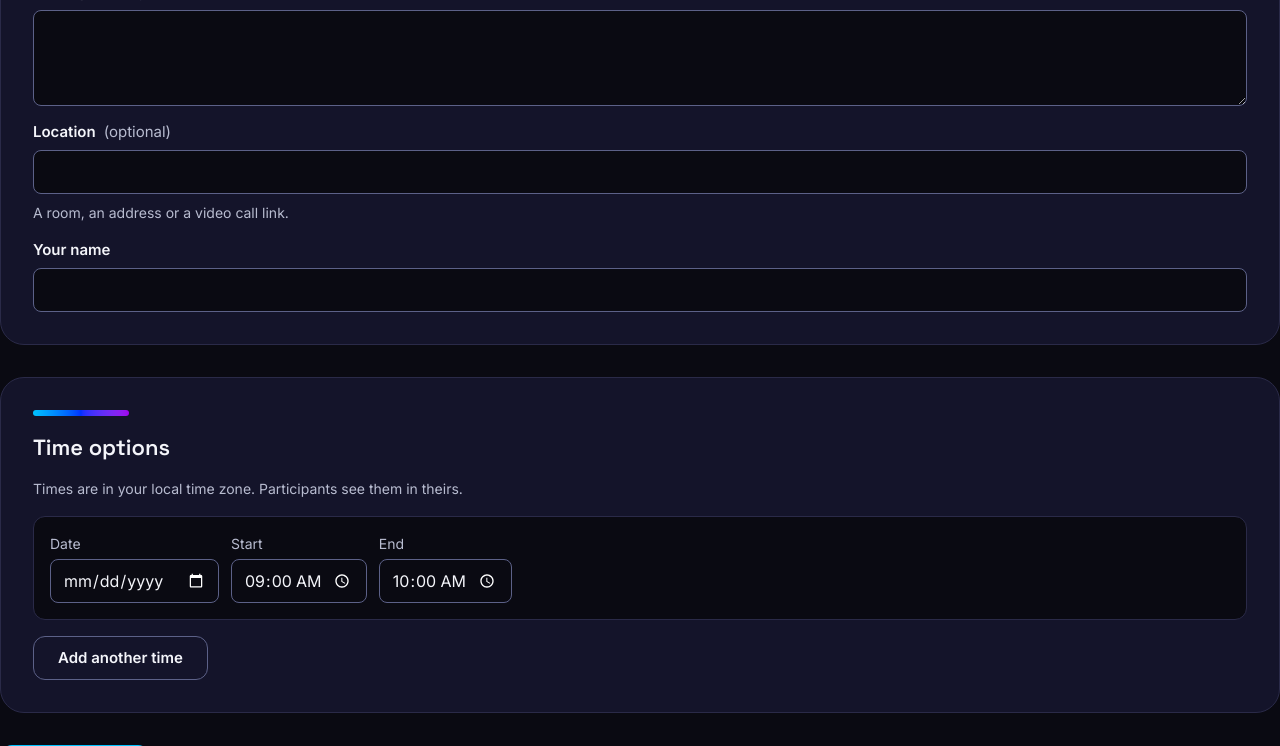
Test: CreatePollForm › adds a slot copying the previous one, and removes slots
Later steps or results of the test are not shown.
(page scrolled)
Type "2026-12-01" into the date field named "Option 1 date" at (134, 581), box x1=50 y1=559 x2=219 y2=603
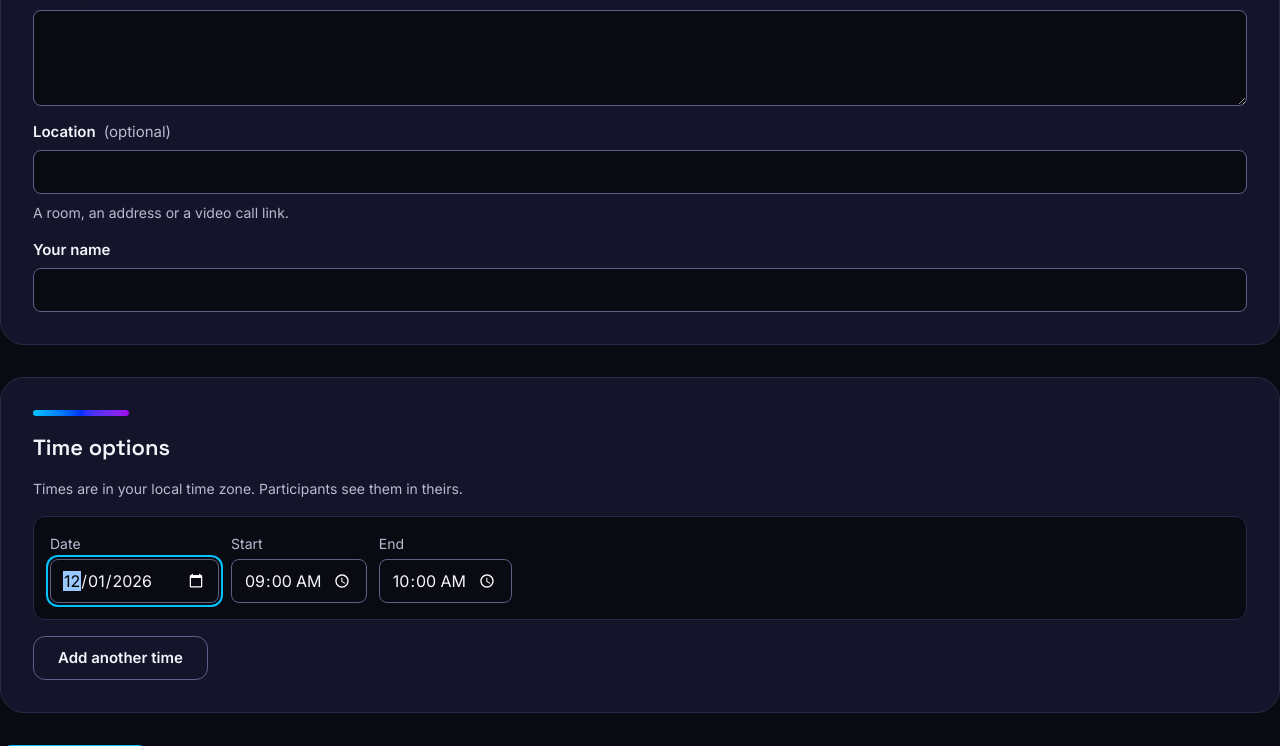
Click the button "Add another time" at (120, 658), box x1=33 y1=636 x2=208 y2=680
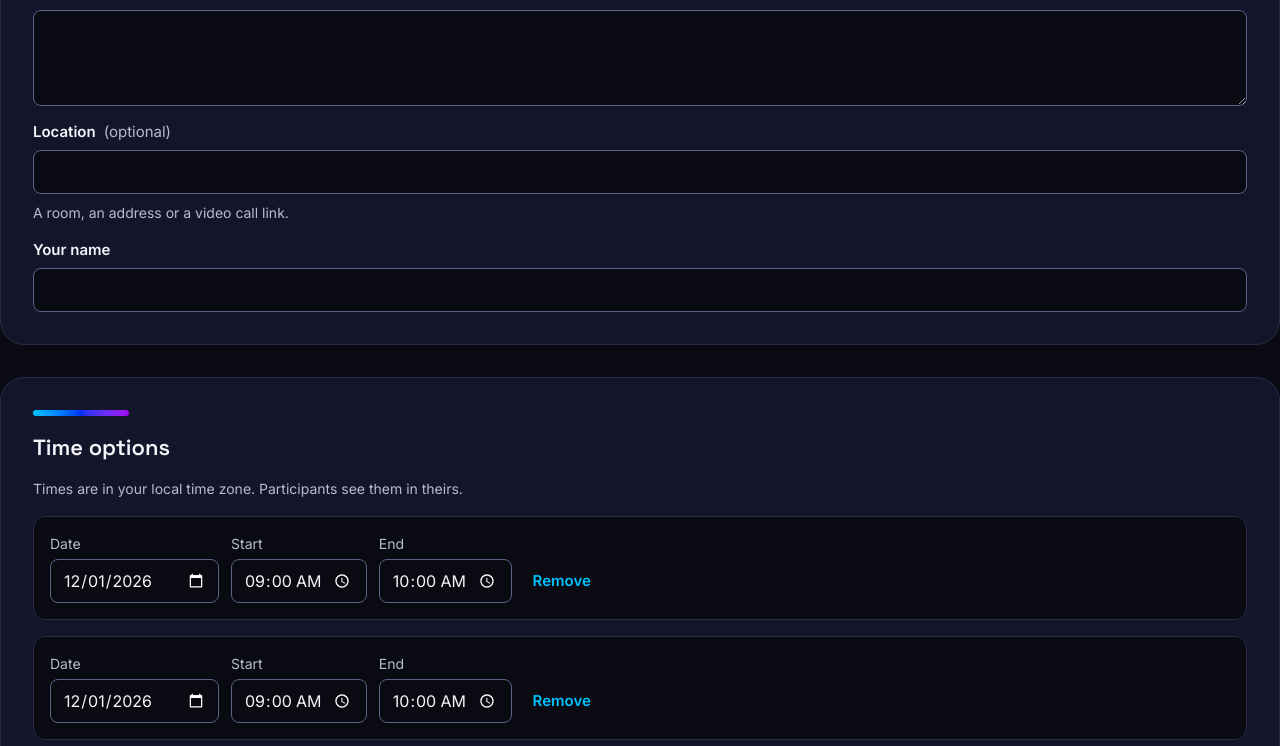
Expected: the date field named "Option 2 date" holds "2026-12-01", x1=50 y1=679 x2=219 y2=723
